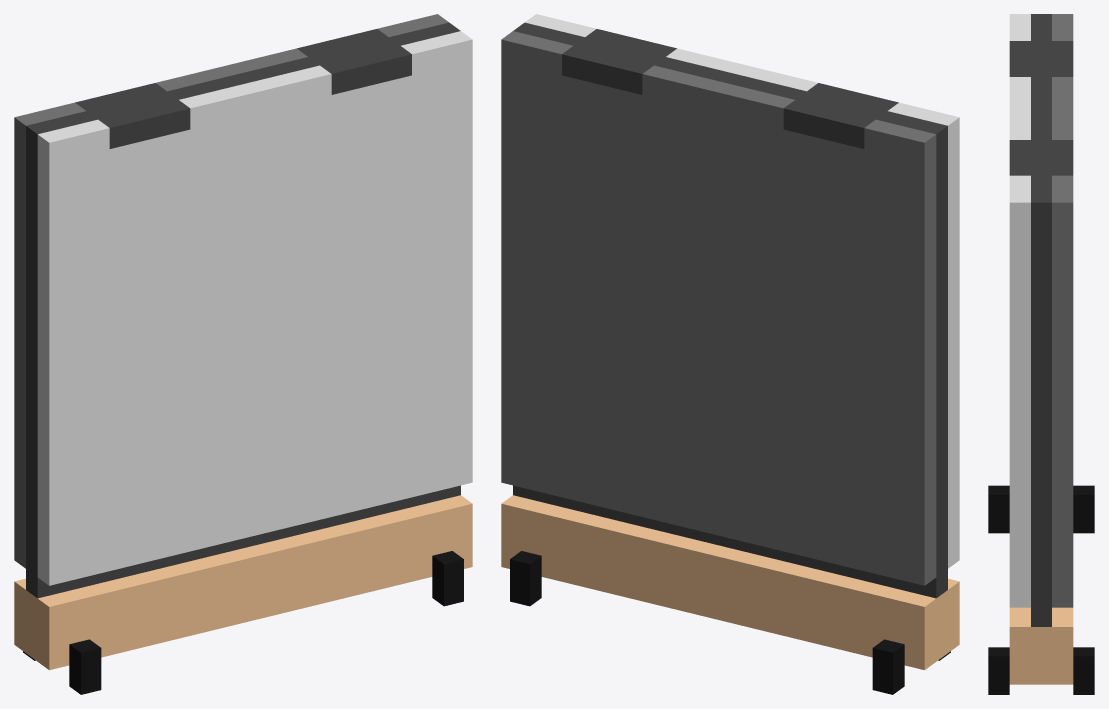
The model's file is dice_2og-20-flywall.obj.
3 views of the same model, side by side, from view 1: azimuth 30°, elevation 25°; view 2: azimuth 150°, elevation 25°; view 3: azimuth 270°, elevation 25° (orthographic). The views are drawn at different scales.
Visible parts, largest first — view 1: flywall; view 2: flywall; view 3: flywall.
Boxes of the visible parts, x1,y1,x2,y2 form: flywall: (14, 14, 472, 694); flywall: (501, 14, 959, 694); flywall: (988, 14, 1094, 694).
Bounding box in the file's own units: 2.1 × 2.6 × 0.5.
1 material, 1 textured.
